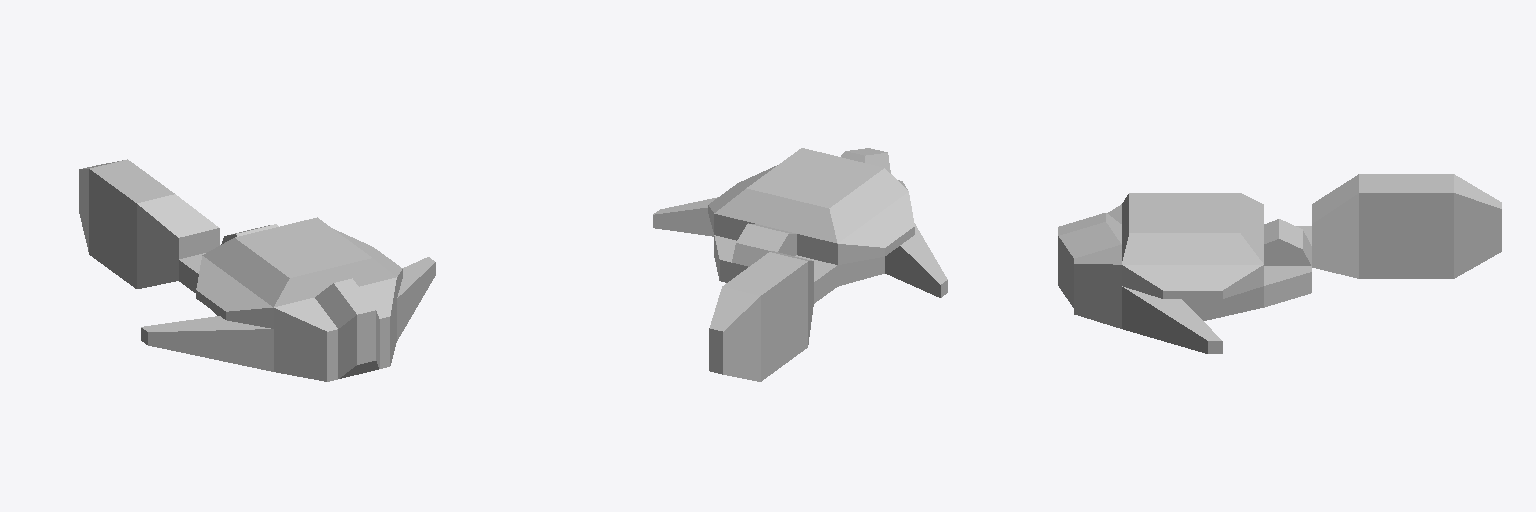
The picture shows the model from 3 angles: view 1: azimuth 30°, elevation 25°; view 2: azimuth 150°, elevation 25°; view 3: azimuth 270°, elevation 25°; orthographic projection.
Parts seen in each view (by area): view 1: Box01_sep9; view 2: Box01_sep9; view 3: Box01_sep9.
Part boxes in pixels (bbox=[...]): Box01_sep9: bbox=[79, 159, 435, 381]; Box01_sep9: bbox=[653, 148, 947, 381]; Box01_sep9: bbox=[1058, 174, 1501, 353].
Size of the model in its own units: 7 by 2 by 9.33.